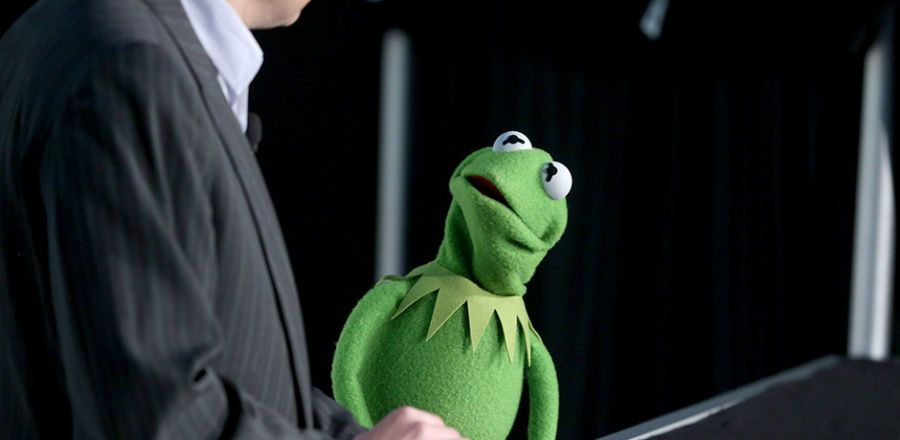kermit: (442, 125, 575, 299)
